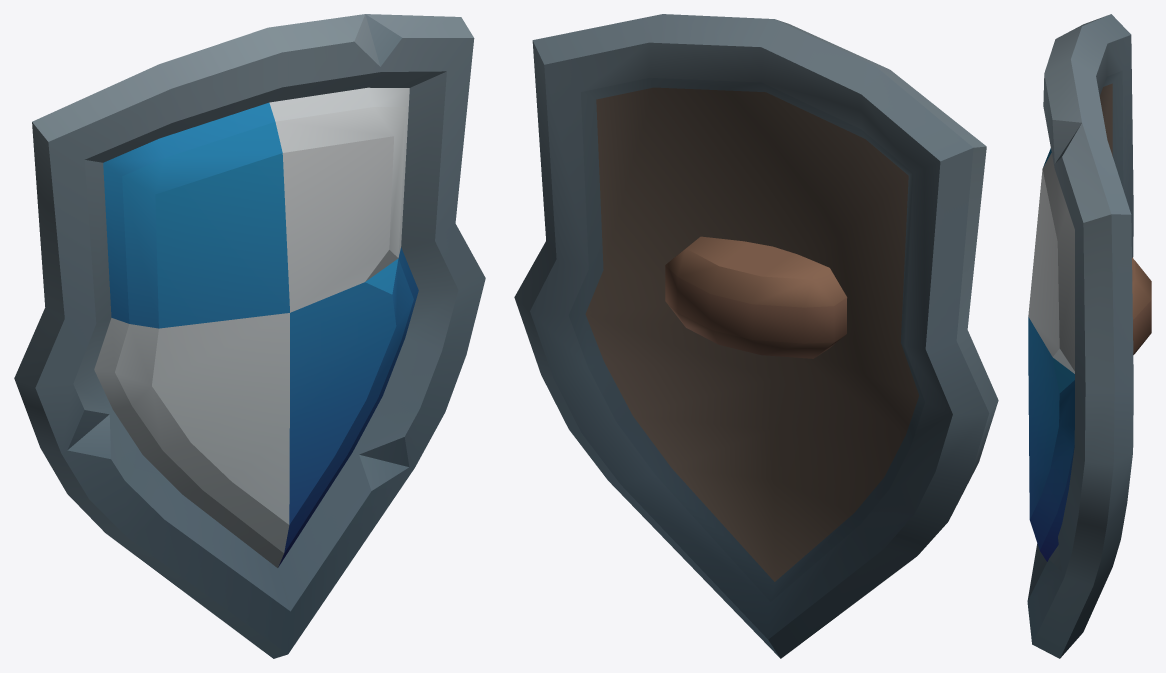
The model's file is XW_shield_B.glb.
The picture shows the model from 3 angles, left to right: view 1: azimuth 30°, elevation 25°; view 2: azimuth 150°, elevation 25°; view 3: azimuth 270°, elevation 25°; orthographic projection. The views are drawn at different scales.
Visible parts, largest first — view 1: shield_B; view 2: shield_B; view 3: shield_B.
Boxes of the visible parts, x1,y1,x2,y2 form: shield_B: [14, 14, 485, 658]; shield_B: [514, 14, 998, 658]; shield_B: [1027, 14, 1151, 658].
Bounding box in the file's own units: 1.02 × 1.32 × 0.248.
